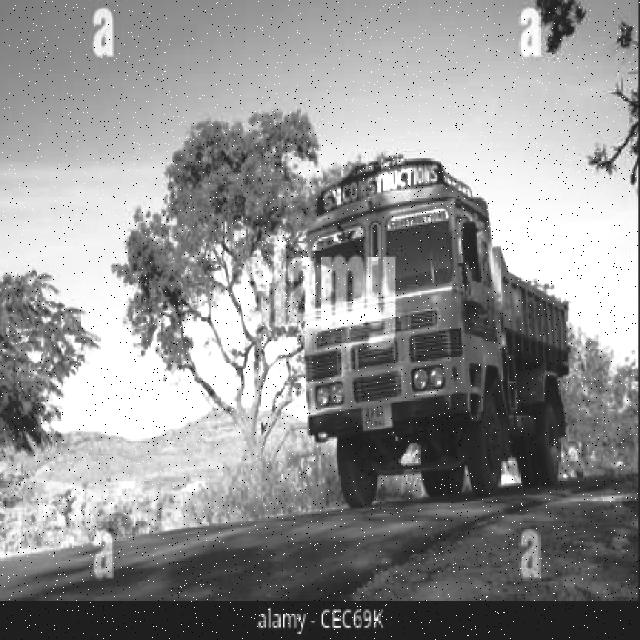HCV: (302, 184, 546, 514)
